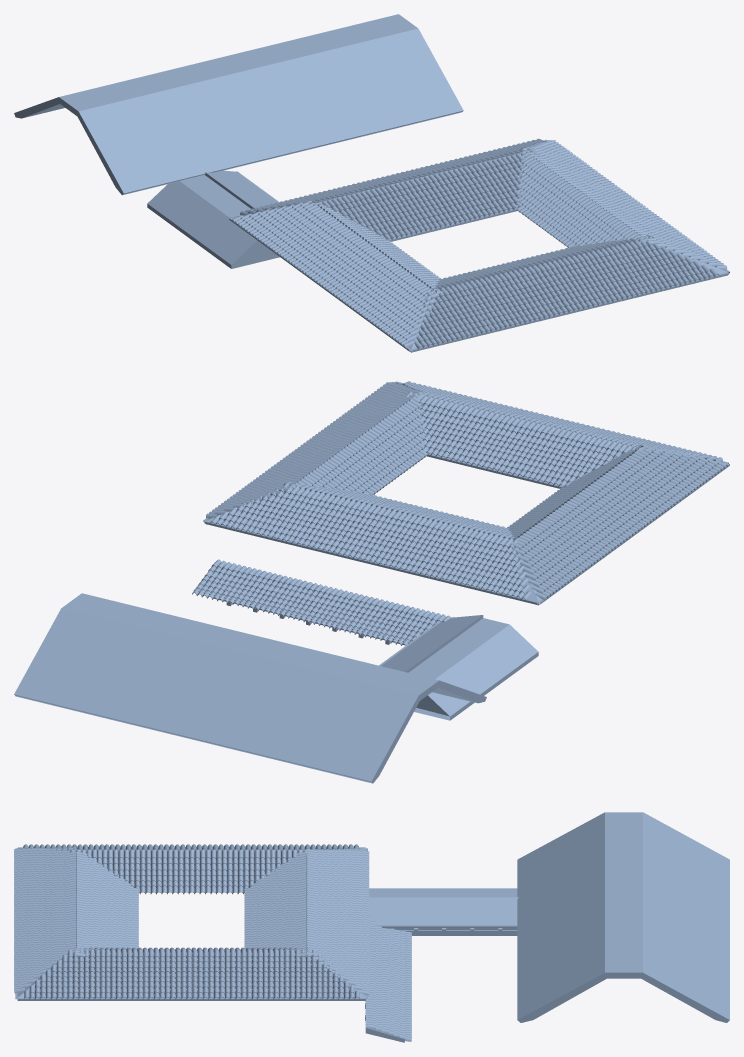
File: SM_roofs.fbx
The picture shows the model from 3 angles, top to bottom: view 1: azimuth 30°, elevation 25°; view 2: azimuth 150°, elevation 25°; view 3: azimuth 270°, elevation 25°; orthographic projection. The views are drawn at different scales.
Visible parts, largest first — view 1: Animal_stables6, Roof_tiles2, Roof_tiles3, Roof_tiles9, roof2ndFloor8, Roof_tiles7, Roof_tiles4, Roof_tiles, Roof_tiles8, Roof_tiles6, Roof4, Underbeam20 (+1 smaller); view 2: Animal_stables6, Roof_tiles, Roof_tiles3, Roof_tiles8, group20_pCylinder27, roof2ndFloor8, Roof_tiles7, Roof_tiles4, Roof_tiles2, Roof_tiles9, Underbeam20, Roof_tiles6 (+3 smaller); view 3: Animal_stables6, Roof_tiles4, Roof_tiles, Roof_tiles2, Roof_tiles6, Roof_tiles8, Roof_tiles9, Underbeam20, group20_pCylinder27, Roof2, roof2ndFloor8, Roof_tiles3 (+1 smaller).
Boxes of the visible parts, left/top/right/bottom form: Animal_stables6: left=14, top=14, right=463, bottom=195; Roof_tiles2: left=414, top=238, right=719, bottom=349; Roof_tiles3: left=232, top=200, right=438, bottom=348; Roof_tiles9: left=313, top=149, right=538, bottom=239; roof2ndFloor8: left=147, top=175, right=279, bottom=268; Roof_tiles7: left=515, top=150, right=646, bottom=247; Roof_tiles4: left=521, top=140, right=727, bottom=269; Roof_tiles: left=240, top=138, right=544, bottom=215; Roof_tiles8: left=429, top=234, right=653, bottom=291; Roof_tiles6: left=315, top=202, right=443, bottom=294; Roof4: left=411, top=244, right=728, bottom=352; Underbeam20: left=205, top=170, right=279, bottom=208; Animal_stables6: left=14, top=593, right=486, bottom=783; Roof_tiles: left=210, top=483, right=531, bottom=600; Roof_tiles3: left=510, top=445, right=727, bottom=600; Roof_tiles8: left=405, top=392, right=642, bottom=486; group20_pCylinder27: left=192, top=559, right=454, bottom=645; roof2ndFloor8: left=408, top=618, right=538, bottom=720; Roof_tiles7: left=291, top=392, right=428, bottom=495; Roof_tiles4: left=206, top=382, right=422, bottom=518; Roof_tiles2: left=402, top=381, right=722, bottom=461; Roof_tiles9: left=283, top=481, right=519, bottom=540; Underbeam20: left=379, top=615, right=483, bottom=672; Roof_tiles6: left=507, top=445, right=643, bottom=541; Animal_stables6: left=517, top=812, right=729, bottom=1022; Roof_tiles4: left=24, top=949, right=359, bottom=999; Roof_tiles: left=307, top=848, right=369, bottom=995; Roof_tiles2: left=14, top=846, right=76, bottom=993; Roof_tiles6: left=70, top=849, right=307, bottom=894; Roof_tiles8: left=76, top=849, right=138, bottom=957; Roof_tiles9: left=244, top=849, right=306, bottom=957; Underbeam20: left=369, top=897, right=518, bottom=932; group20_pCylinder27: left=365, top=919, right=411, bottom=1041; Roof2: left=17, top=952, right=365, bottom=1000; roof2ndFloor8: left=369, top=888, right=517, bottom=935; Roof_tiles3: left=23, top=844, right=358, bottom=850.
Size of the model in its own units: 3473 by 767 by 6375.
